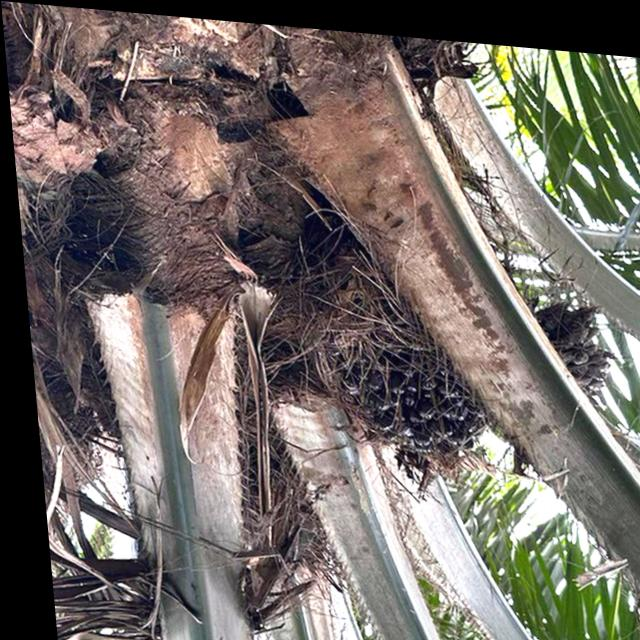almost: (304, 247, 485, 469)
